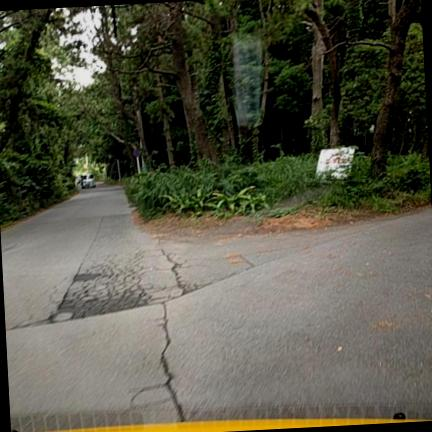Road: (1, 186, 431, 431)
